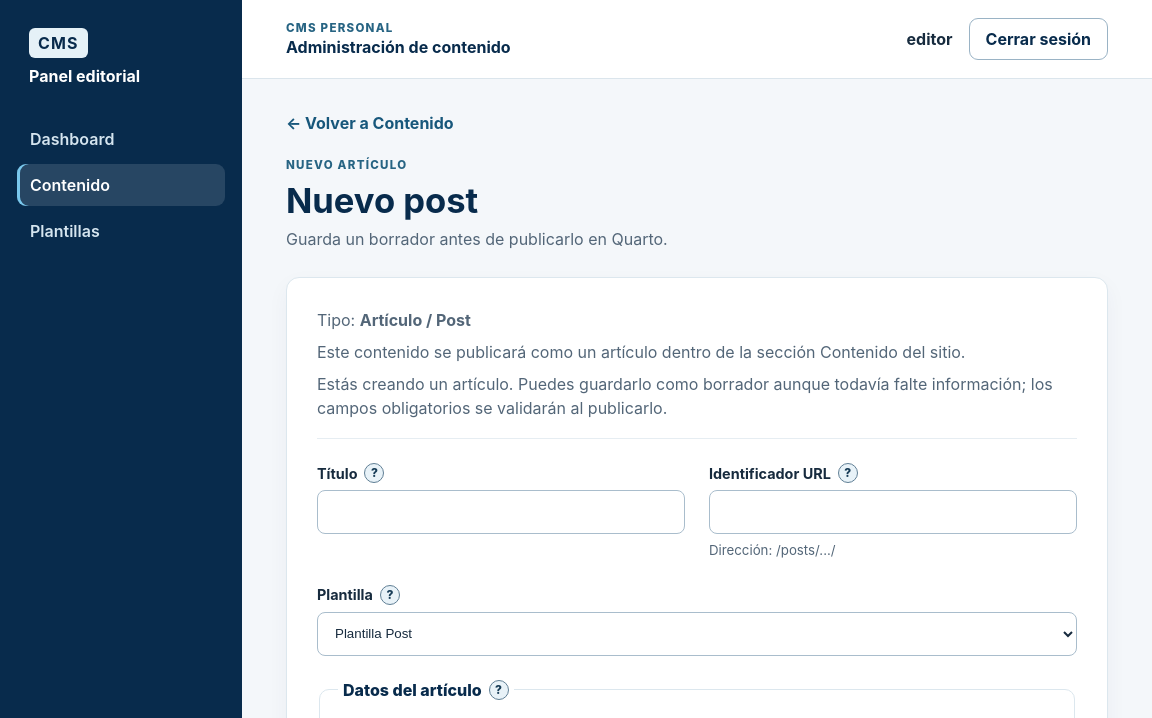
Scenario: Creación y edición › sugiere slug y conserva la edición manual
This screenshot has width=1152, height=718.
Type "Introducción a VLANs: Básico" into the field labelled "Título" at (501, 512), box [317,490,685,534]
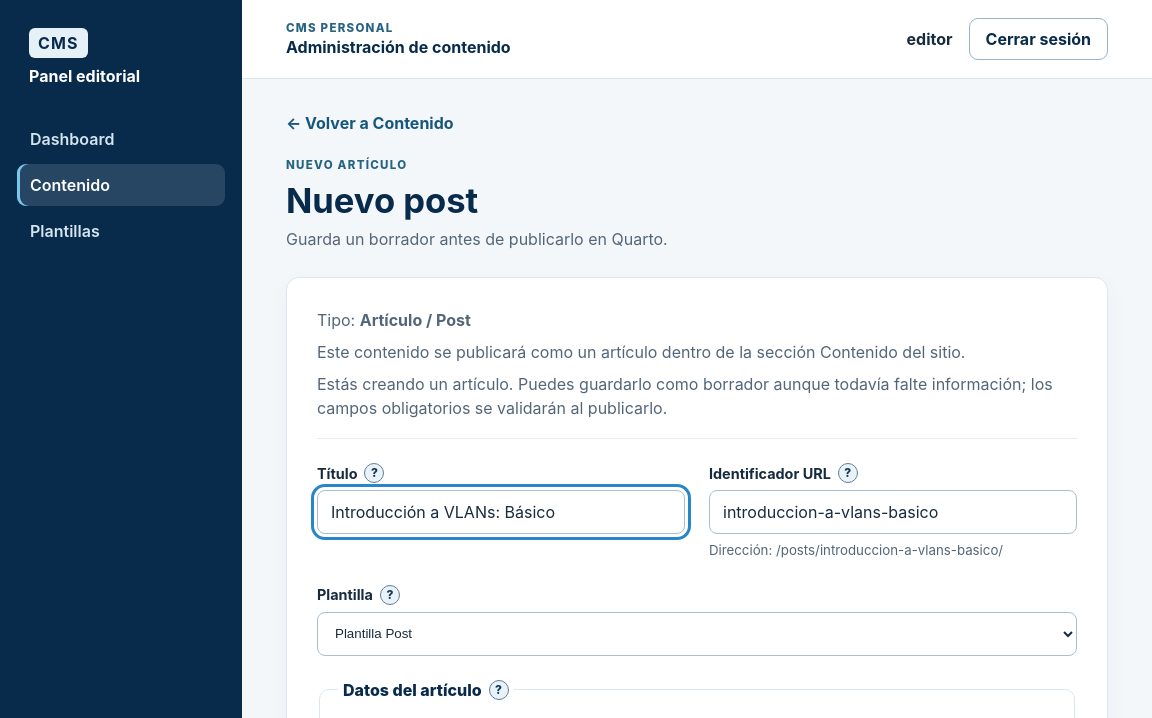
Expected: the field labelled "Identificador URL" holds "introduccion-a-vlans-basico"
Expected: the text "Dirección: /posts/introduccion-a-vlans-basico/" is shown, [709,542,1003,558]
Clear the field labelled "Identificador URL" at (893, 512), box [709,490,1077,534]
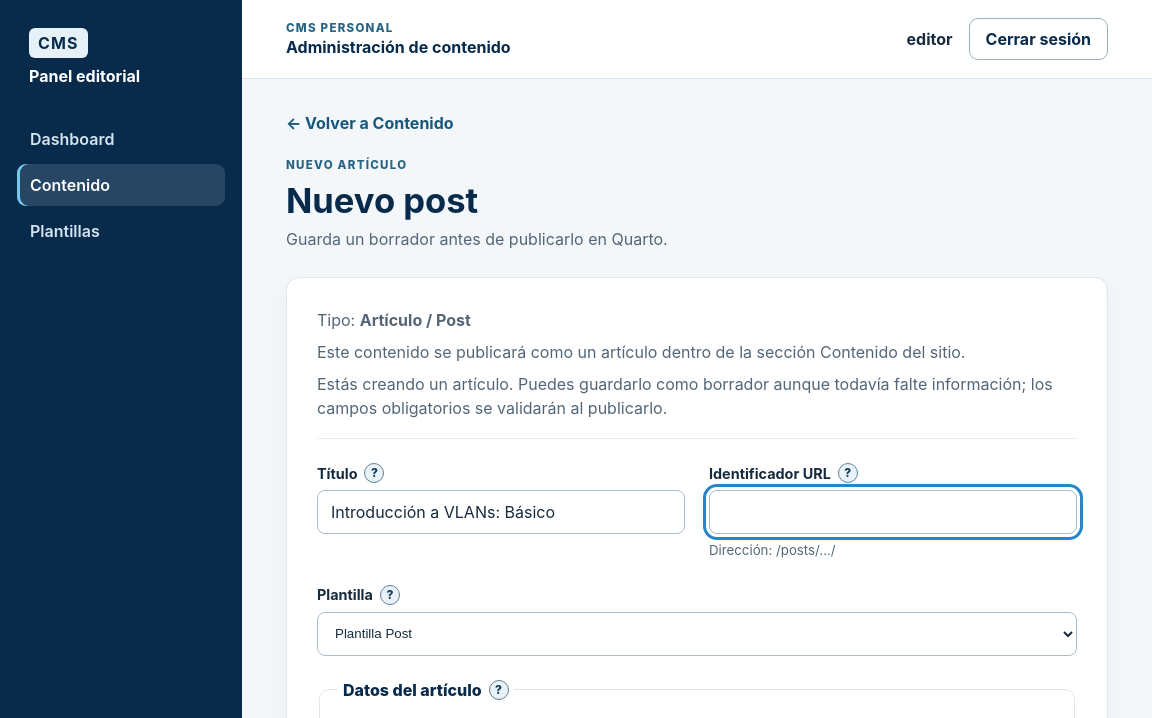
Expected: the text "Dirección: /posts/.../" is shown, [709,542,836,558]
Type "mi-slug" into the field labelled "Identificador URL" at (893, 512), box [709,490,1077,534]
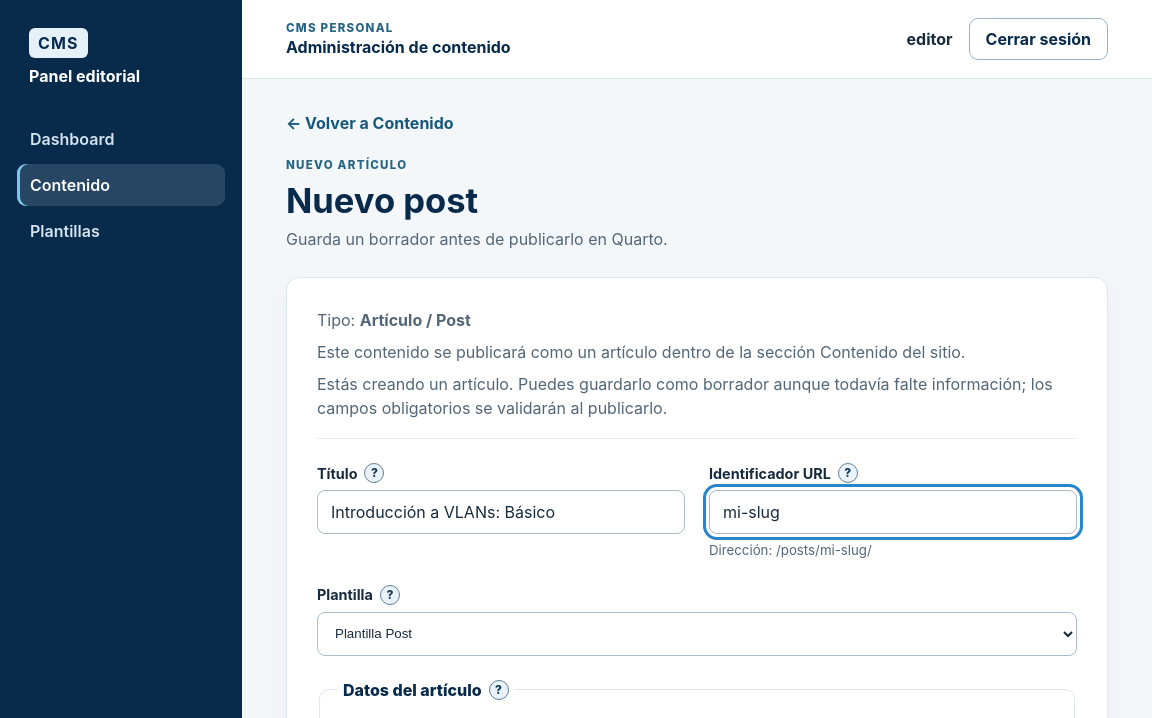
Type " ampliado" into the field labelled "Título" at (501, 512), box [317,490,685,534]
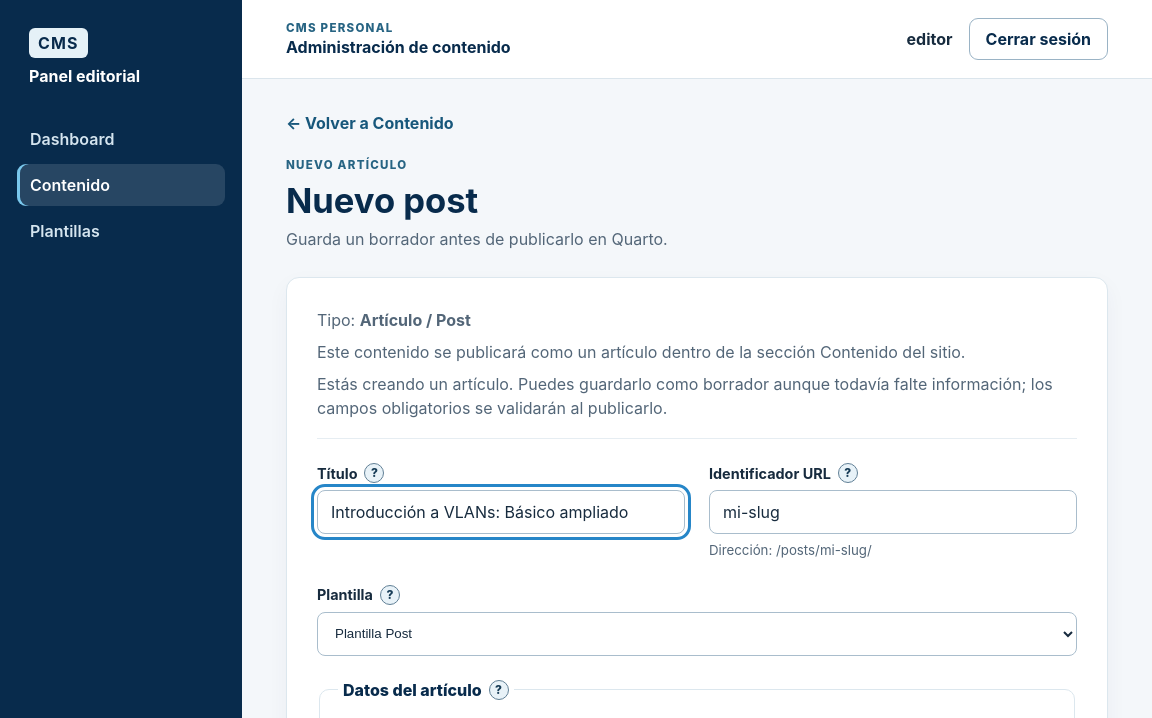
Expected: the text "Dirección: /posts/mi-slug/" is shown, [709,542,872,558]
Hover over the button named "Mostrar ayuda" at (848, 473), box [838,463,858,483]
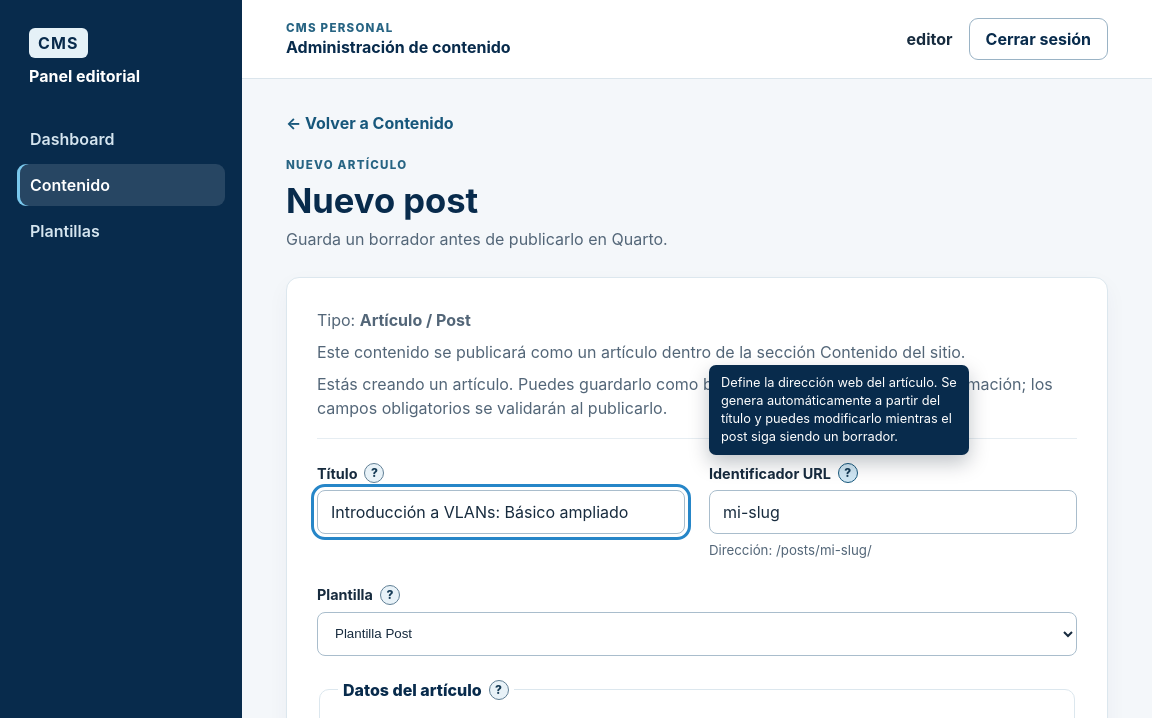
Expected: the tooltip shows "Se genera automáticamente a partir del título", [721,375,957,444]
